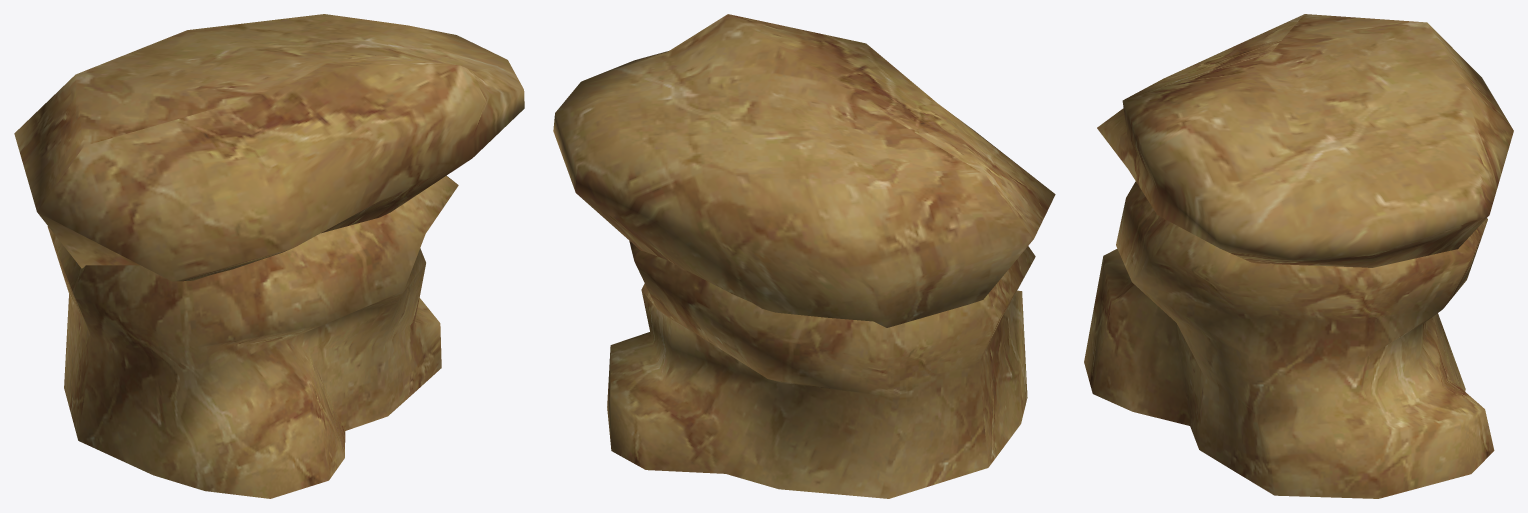
Rendered from environment_stone_shanti_001_b.FBX.
The picture shows the model from 3 angles, left to right: view 1: azimuth 30°, elevation 25°; view 2: azimuth 150°, elevation 25°; view 3: azimuth 270°, elevation 25°; orthographic projection. The views are drawn at different scales.
Visible parts, largest first — view 1: environment_stone_shanti_001_b; view 2: environment_stone_shanti_001_b; view 3: environment_stone_shanti_001_b.
Part boxes in pixels (bbox=[...]): environment_stone_shanti_001_b: bbox=[14, 14, 524, 498]; environment_stone_shanti_001_b: bbox=[553, 14, 1055, 498]; environment_stone_shanti_001_b: bbox=[1084, 14, 1513, 498].
Bounding box in the file's own units: 710 × 495 × 543.
Materials: 1 (1 with a texture image).
